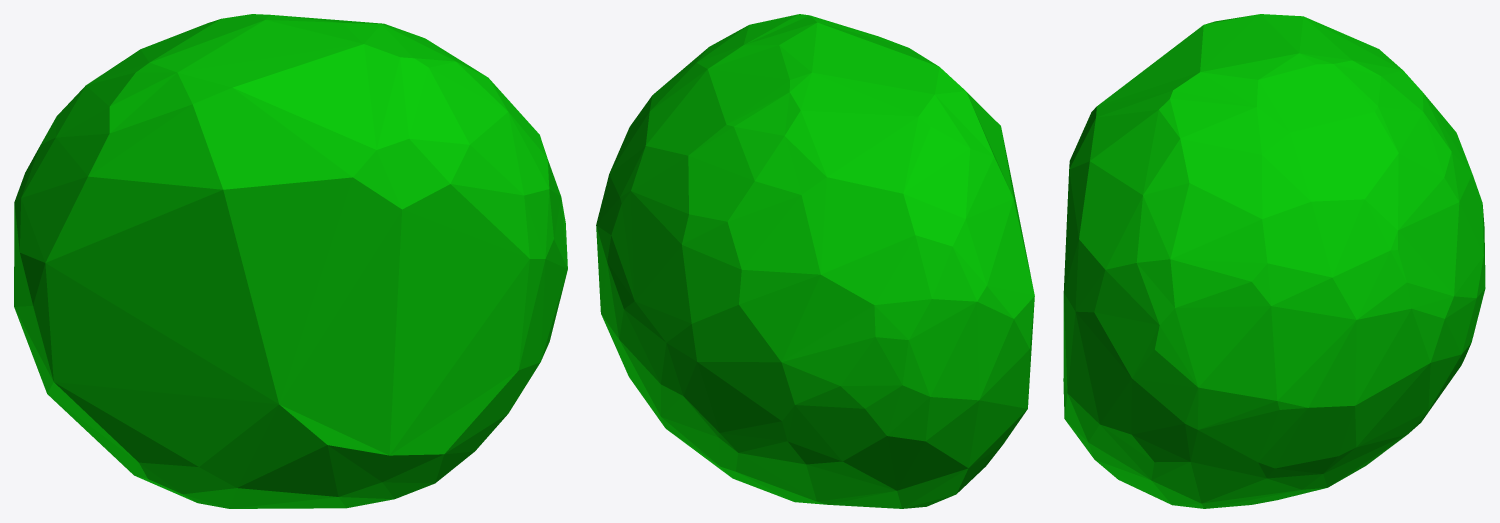
File: talos_larm_rom.dae
3 renders of one model, left to right at view 1: azimuth 30°, elevation 25°; view 2: azimuth 150°, elevation 25°; view 3: azimuth 270°, elevation 25°, orthographic. The views are drawn at different scales.
Visible parts, largest first — view 1: foo; view 2: foo; view 3: foo.
Part boxes in pixels (box(x1,y1,x2,y2)): foo: box(14, 14, 567, 508); foo: box(596, 14, 1034, 508); foo: box(1063, 14, 1485, 508).
Size of the model in its own units: 1.64 by 1.36 by 1.52.
